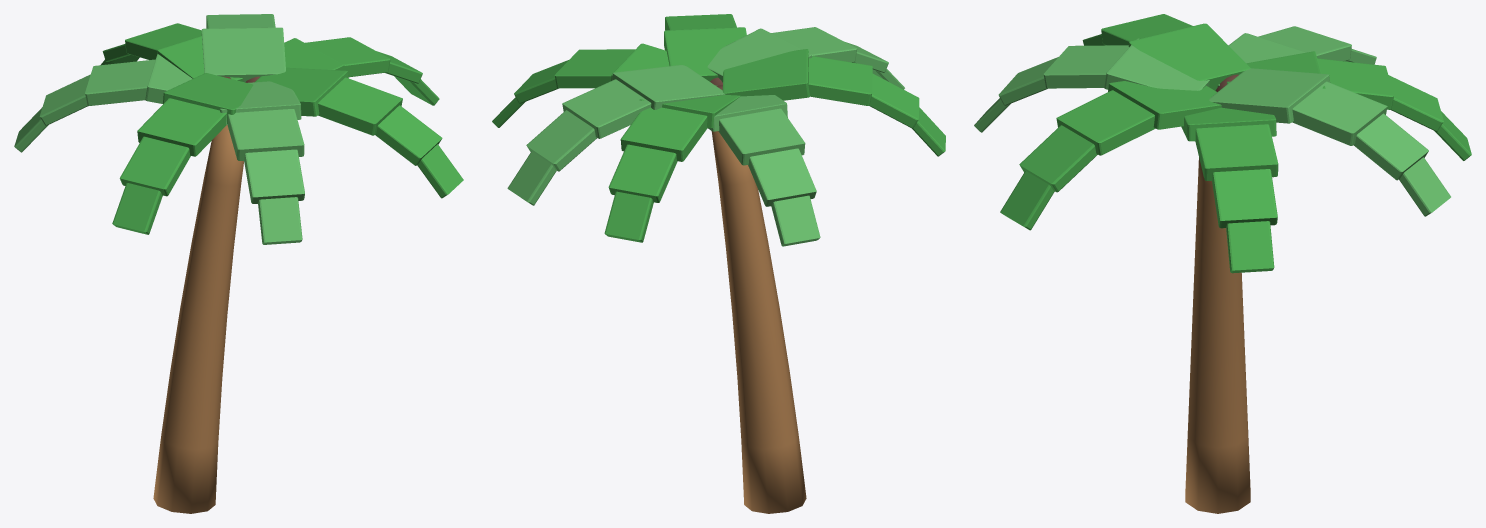
File: palm.glb
The picture shows the model from 3 angles, left to right: view 1: azimuth 30°, elevation 25°; view 2: azimuth 150°, elevation 25°; view 3: azimuth 270°, elevation 25°; orthographic projection. The views are drawn at different scales.
Visible parts, largest first — view 1: PalmTrunk, PalmFrond5, PalmFrond6, PalmFrond7, PalmFrond4, PalmFrond2, PalmFrond1, PalmFrond3; view 2: PalmTrunk, PalmFrond2, PalmFrond4, PalmFrond3, PalmFrond5, PalmFrond1, PalmFrond6, PalmFrond7; view 3: PalmTrunk, PalmFrond2, PalmFrond7, PalmFrond1, PalmFrond6, PalmFrond5, PalmFrond3, PalmFrond4.
Part boxes in pixels (bbox=[...]): PalmTrunk: bbox=[153, 125, 243, 513]; PalmFrond5: bbox=[112, 73, 253, 234]; PalmFrond6: bbox=[220, 81, 304, 244]; PalmFrond7: bbox=[255, 67, 463, 198]; PalmFrond4: bbox=[14, 54, 192, 152]; PalmFrond2: bbox=[201, 14, 285, 82]; PalmFrond1: bbox=[284, 37, 439, 105]; PalmFrond3: bbox=[100, 23, 243, 81]; PalmTrunk: bbox=[711, 131, 806, 513]; PalmFrond2: bbox=[507, 65, 725, 205]; PalmFrond4: bbox=[708, 95, 820, 246]; PalmFrond3: bbox=[604, 85, 740, 242]; PalmFrond5: bbox=[722, 49, 945, 156]; PalmFrond1: bbox=[492, 43, 669, 127]; PalmFrond6: bbox=[707, 27, 904, 89]; PalmFrond7: bbox=[664, 14, 746, 81]; PalmTrunk: bbox=[1185, 157, 1250, 513]; PalmFrond2: bbox=[1209, 68, 1450, 216]; PalmFrond7: bbox=[1000, 81, 1221, 230]; PalmFrond1: bbox=[1181, 107, 1278, 273]; PalmFrond6: bbox=[974, 38, 1209, 132]; PalmFrond5: bbox=[1082, 14, 1250, 90]; PalmFrond3: bbox=[1227, 51, 1471, 160]; PalmFrond4: bbox=[1217, 26, 1376, 86].
Bounding box in the file's own units: 3.24 × 3.42 × 3.34.
